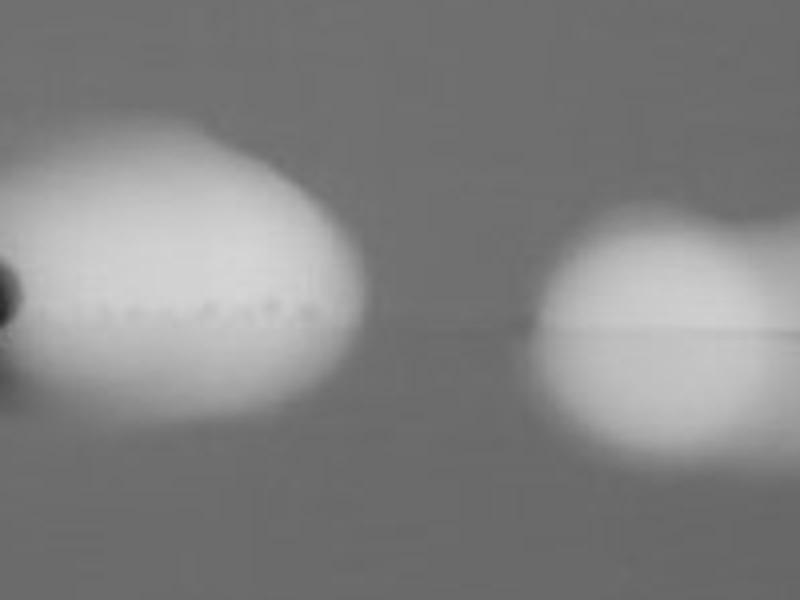defect: (1, 259, 19, 330)
